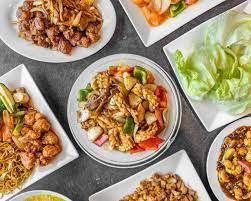Braised Crucian Carp: (66, 52, 181, 167), (0, 66, 78, 193), (0, 0, 117, 63)
